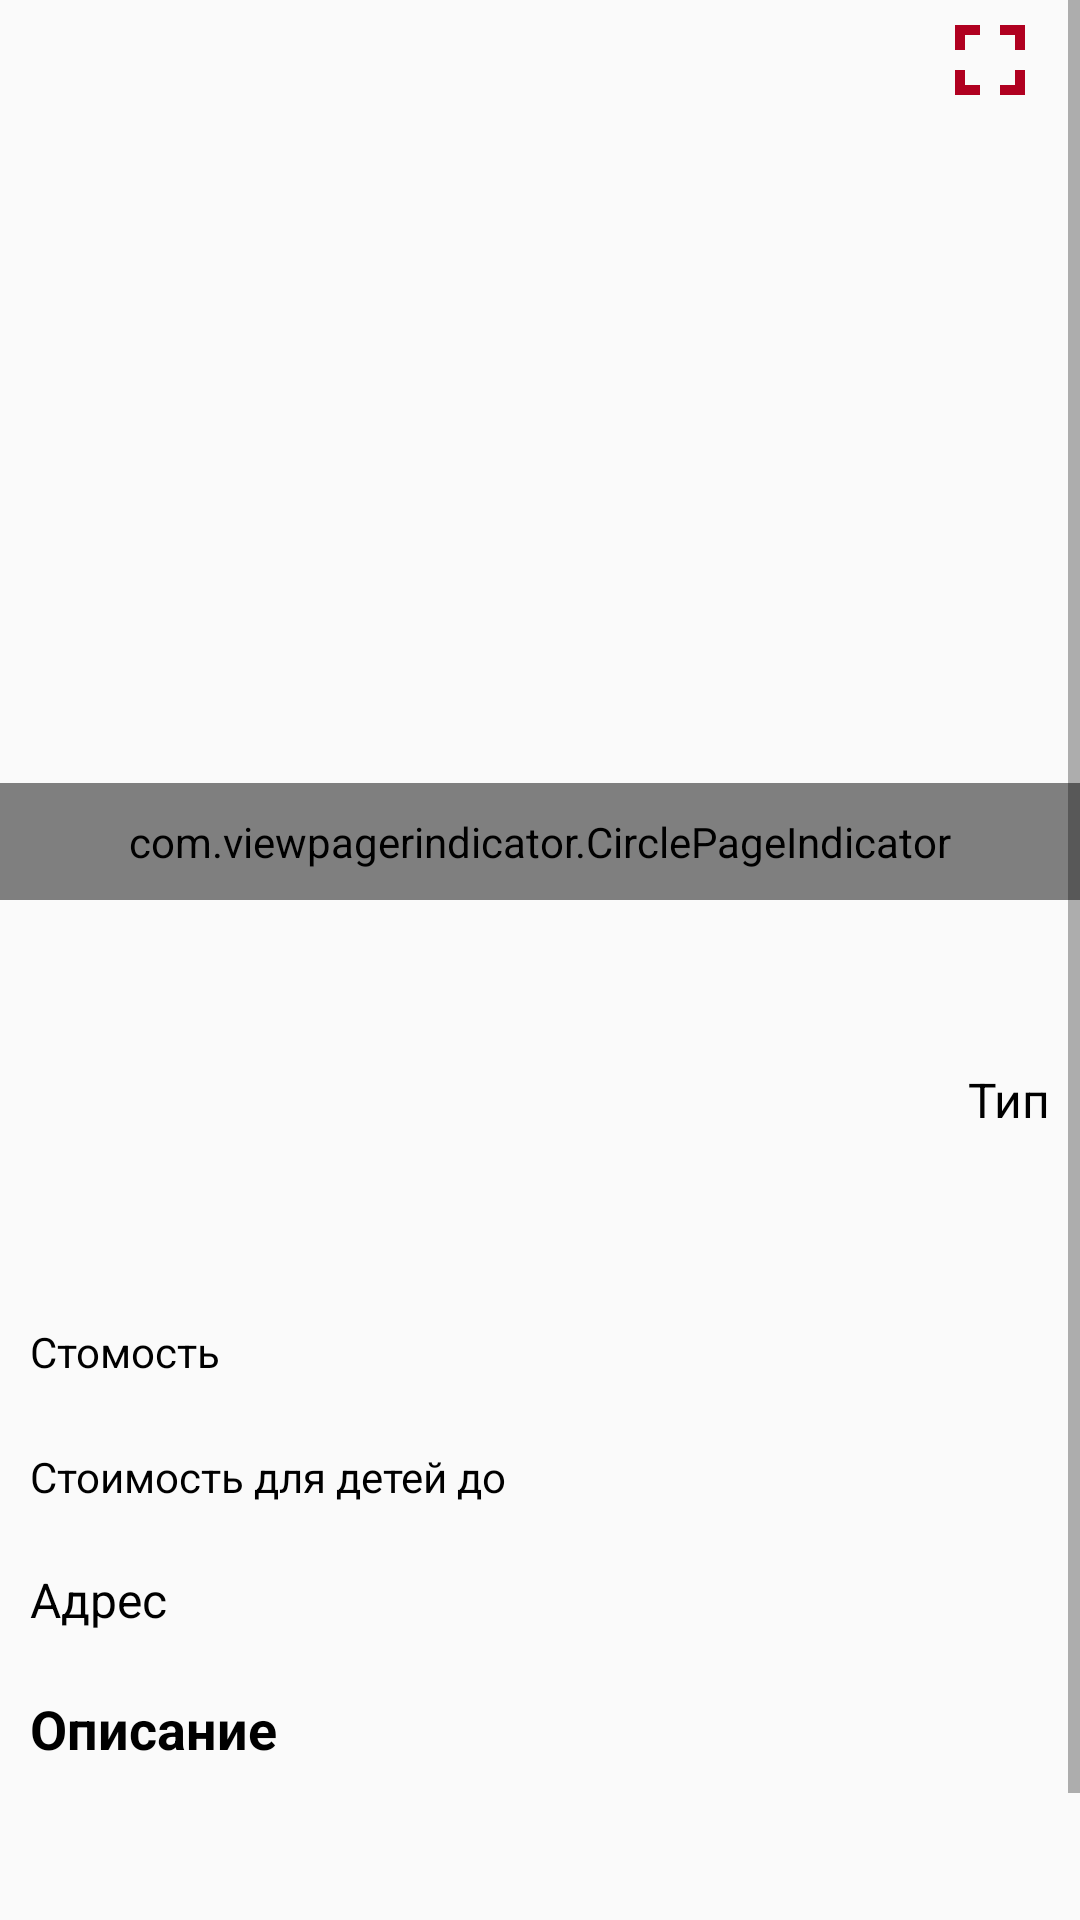

Icons on this 1080px x 1920px Android screen, each with the point to tap as [x,y]:
fullscreen: [990,60]
